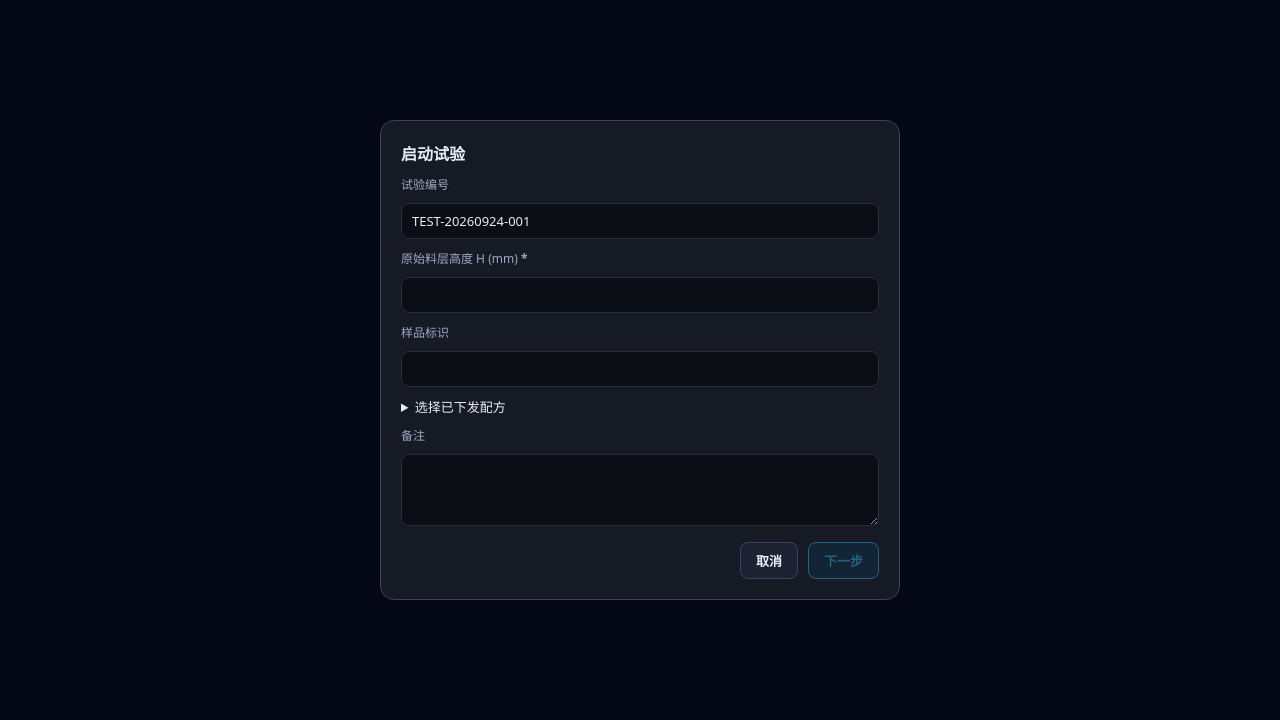
command confirmation modals › 启动试验第二步使用 danger ConfirmDialog
The image size is (1280, 720).
Type "25.5" into the number field with id "start-test-height". click: (640, 295)
box: [401, 277, 879, 313]
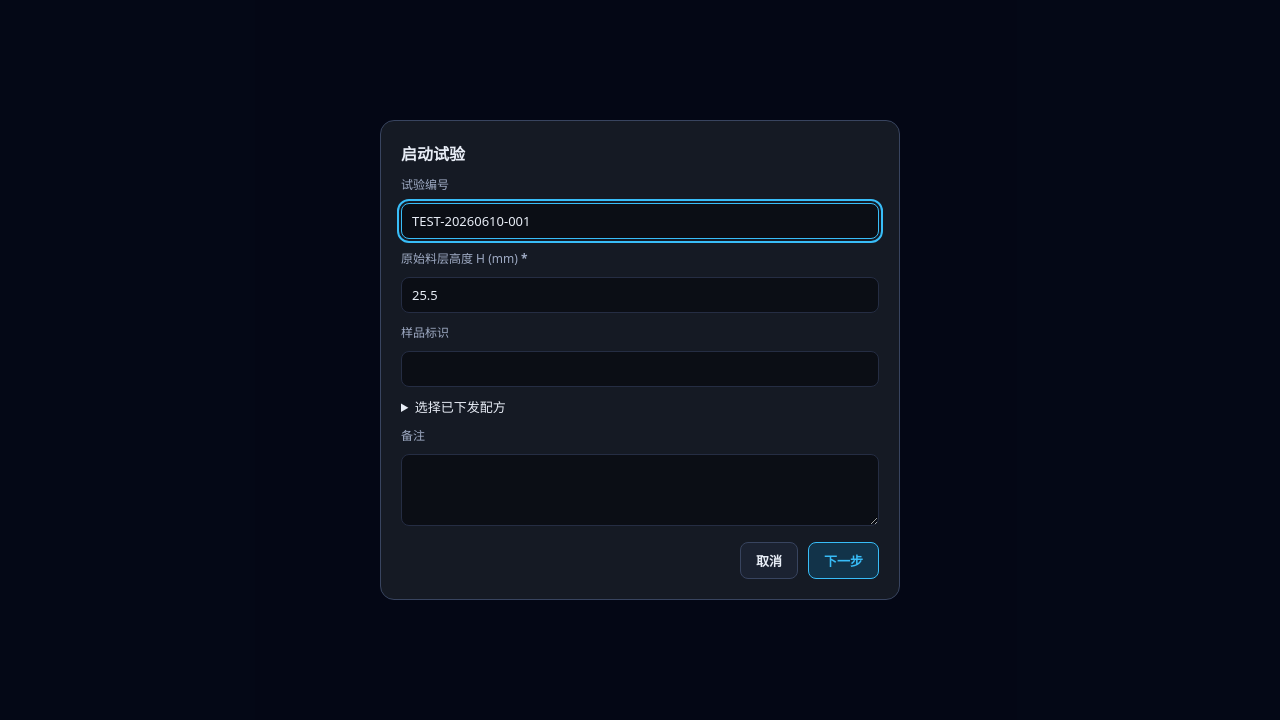
Click the button "下一步". click: (844, 560)
box: [808, 542, 879, 579]
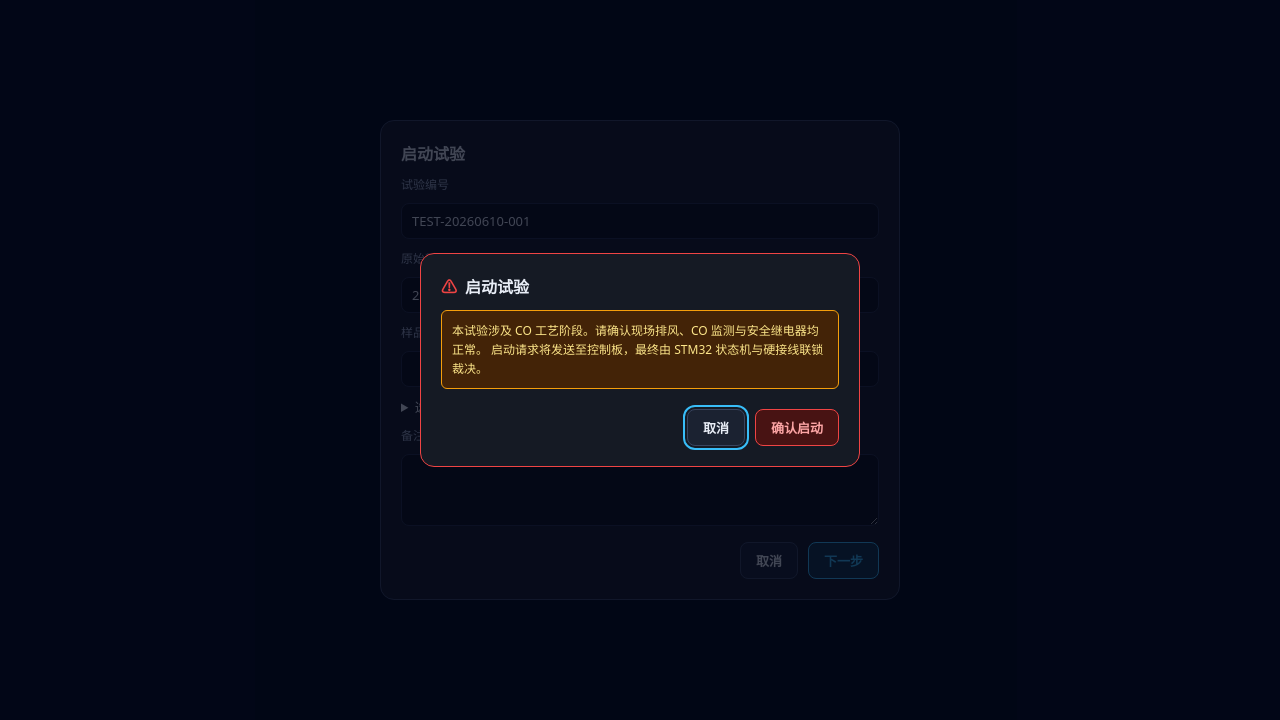
Check: the element that starts with "启动试验" is shown
Check: the element that starts with "启动试验" shows "CO 工艺阶段", box [452, 322, 823, 377]
